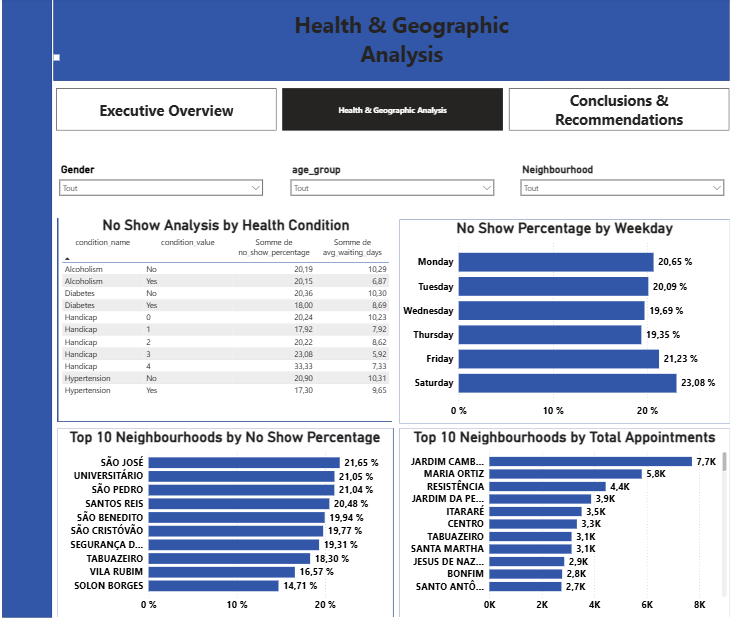

This screenshot's page, from the dashboard's own definition file:
{"tool":"powerbi","page":{"name":"Health & Geographic Analysis","canvas":[1280,1250],"ordinal":1},"visuals":[{"type":"shape","box":[100,0,1168.3,145],"z":0},{"type":"shape","box":[10,0,86,1072],"z":1000},{"type":"textbox","box":[100,100,10,4],"z":6000},{"type":"textbox","box":[455,0,490,145],"z":7000},{"type":"shape","box":[105.8,382.3,578.8,352],"z":8000},{"type":"shape","box":[697.6,384.4,570.1,352],"z":9000},{"type":"shape","box":[105.8,745.1,580.9,326.1],"z":10000},{"type":"shape","box":[697.6,745.1,570.1,326.1],"z":11000},{"type":"pageNavigator","box":[103.3,158.3,1163.3,73.3],"z":12000},{"type":"tableEx","title":"No Show Analysis by Health Condition","fields":{"Values":["vw_no_show_by_health_condition.condition_name","vw_no_show_by_health_condition.condition_value","Sum(vw_no_show_by_health_condition.no_show_percentage)","Sum(vw_no_show_by_health_condition.avg_waiting_days)"]},"box":[106.9,380.4,579,352.9],"z":17000},{"type":"clusteredBarChart","title":"No Show Percentage by Weekday","fields":{"Y":["Measures table.No Show Percentage"],"Category":["DimDate.Day Name EN"]},"box":[697.6,384.4,570.1,352],"z":18000},{"type":"clusteredBarChart","title":"Top 10 Neighbourhoods by No Show Percentage","fields":{"Y":["Measures table.No Show Percentage"],"Category":["vw_dim_neighbourhood.neighbourhood_name"]},"box":[105,745,580,326.7],"z":19000},{"type":"clusteredBarChart","title":"Top 10 Neighbourhoods by Total Appointments","fields":{"Category":["vw_fact_appointments.Neighbourhood"],"Y":["Measures table.Total Appointments"]},"box":[698.3,745,570,326.7],"z":20000},{"type":"slicer","fields":{"Values":["vw_fact_appointments.Gender"]},"box":[100,283.3,371.7,73.3],"z":21000},{"type":"slicer","fields":{"Values":["vw_fact_appointments.age_group"]},"box":[498.3,283.3,371.7,73.3],"z":22000},{"type":"slicer","fields":{"Values":["vw_fact_appointments.Neighbourhood"]},"box":[896.7,283.3,371.7,73.3],"z":23000}]}

Visuals, with their boxes on the page's 1280x1250 design canvas (x1, y1, x2, y2). These are canvas units, not pixel positions in the 732x630 screenshot, which may show the page scaled, cropped or inside an application window:
shape: (left=100, top=0, right=1268, bottom=145)
shape: (left=10, top=0, right=96, bottom=1072)
textbox: (left=100, top=100, right=110, bottom=104)
textbox: (left=455, top=0, right=945, bottom=145)
shape: (left=106, top=382, right=685, bottom=734)
shape: (left=698, top=384, right=1268, bottom=736)
shape: (left=106, top=745, right=687, bottom=1071)
shape: (left=698, top=745, right=1268, bottom=1071)
pageNavigator: (left=103, top=158, right=1267, bottom=232)
"No Show Analysis by Health Condition" tableEx: (left=107, top=380, right=686, bottom=733)
"No Show Percentage by Weekday" clusteredBarChart: (left=698, top=384, right=1268, bottom=736)
"Top 10 Neighbourhoods by No Show Percentage" clusteredBarChart: (left=105, top=745, right=685, bottom=1072)
"Top 10 Neighbourhoods by Total Appointments" clusteredBarChart: (left=698, top=745, right=1268, bottom=1072)
slicer - vw_fact_appointments.Gender: (left=100, top=283, right=472, bottom=357)
slicer - vw_fact_appointments.age_group: (left=498, top=283, right=870, bottom=357)
slicer - vw_fact_appointments.Neighbourhood: (left=897, top=283, right=1268, bottom=357)
